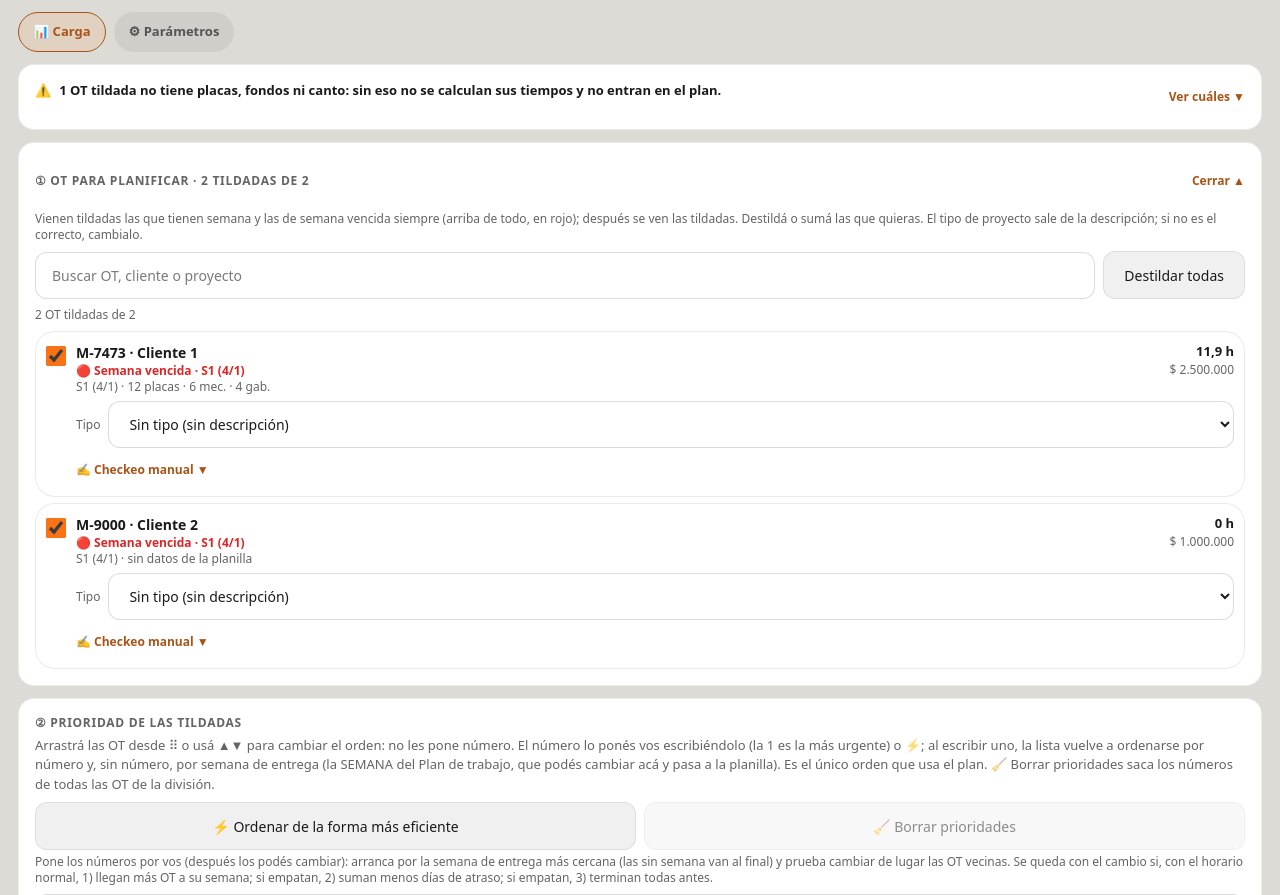
📊 Carga — 💲 precio de cada OT y valorización por semana y mes
Click the checkbox named "Planificar OT M-9000": (56, 528) [46, 518, 66, 538]
(page scrolled)
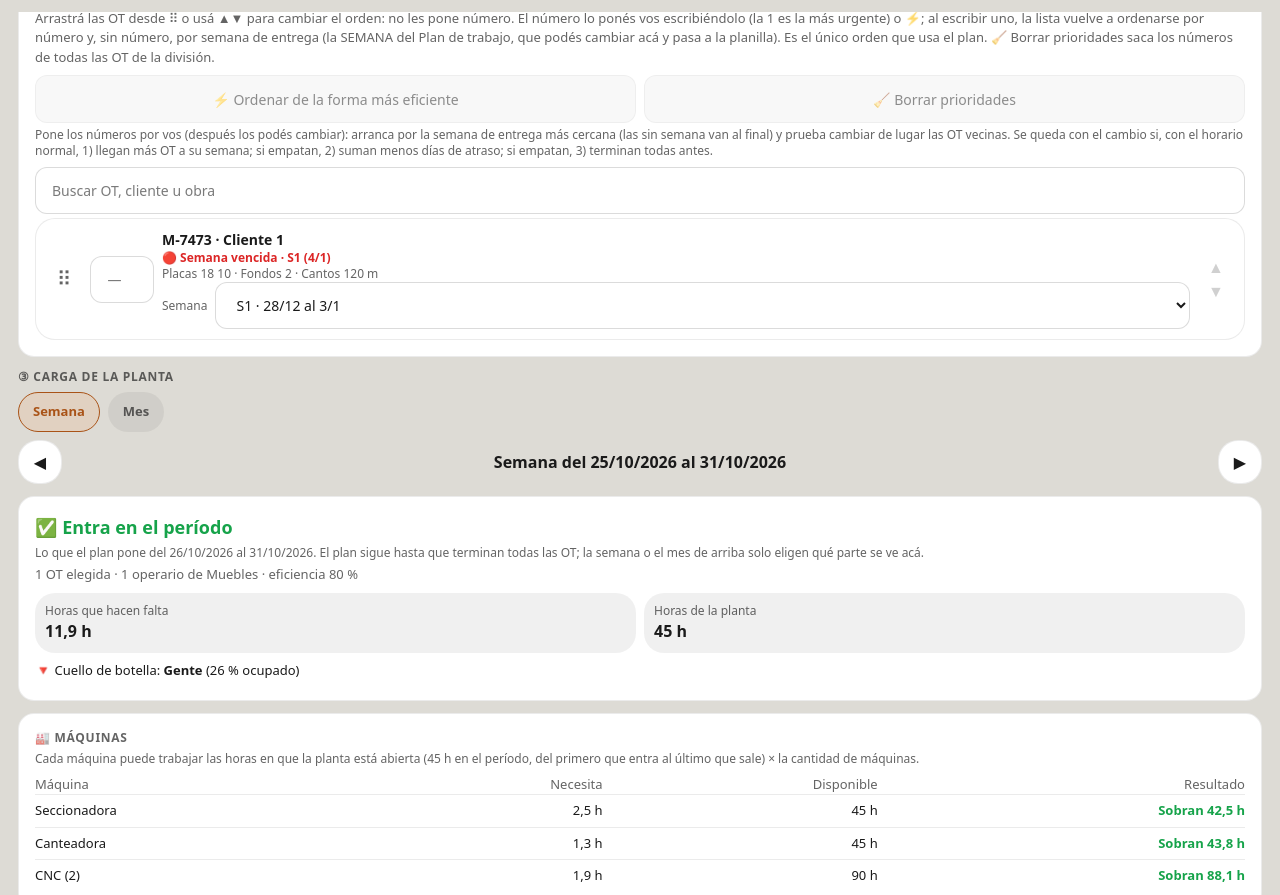
Click the button named "Período siguiente": (1240, 462) [1218, 440, 1262, 484]
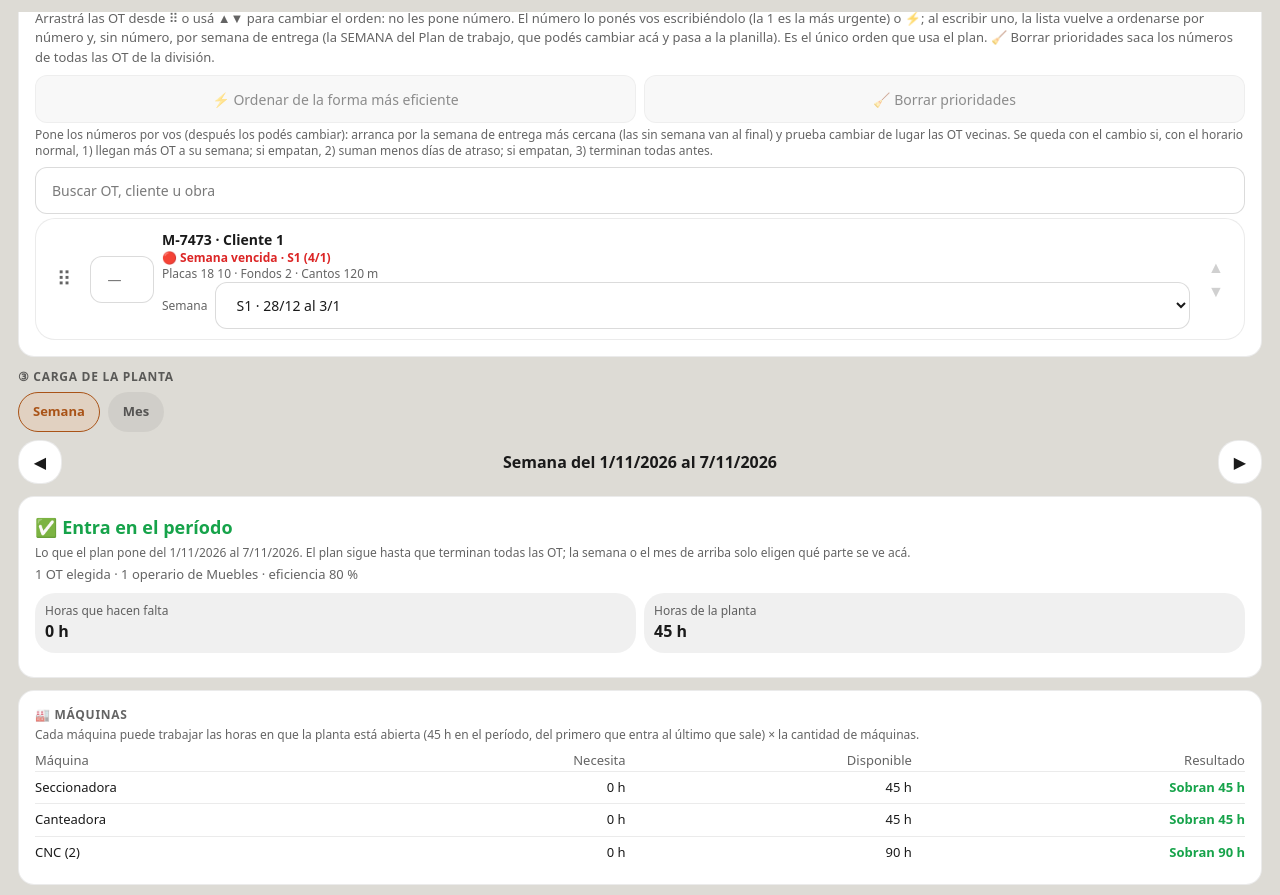
# Con Mes: por mes
Click the button "Mes": (136, 412) [108, 392, 164, 432]
(page scrolled)
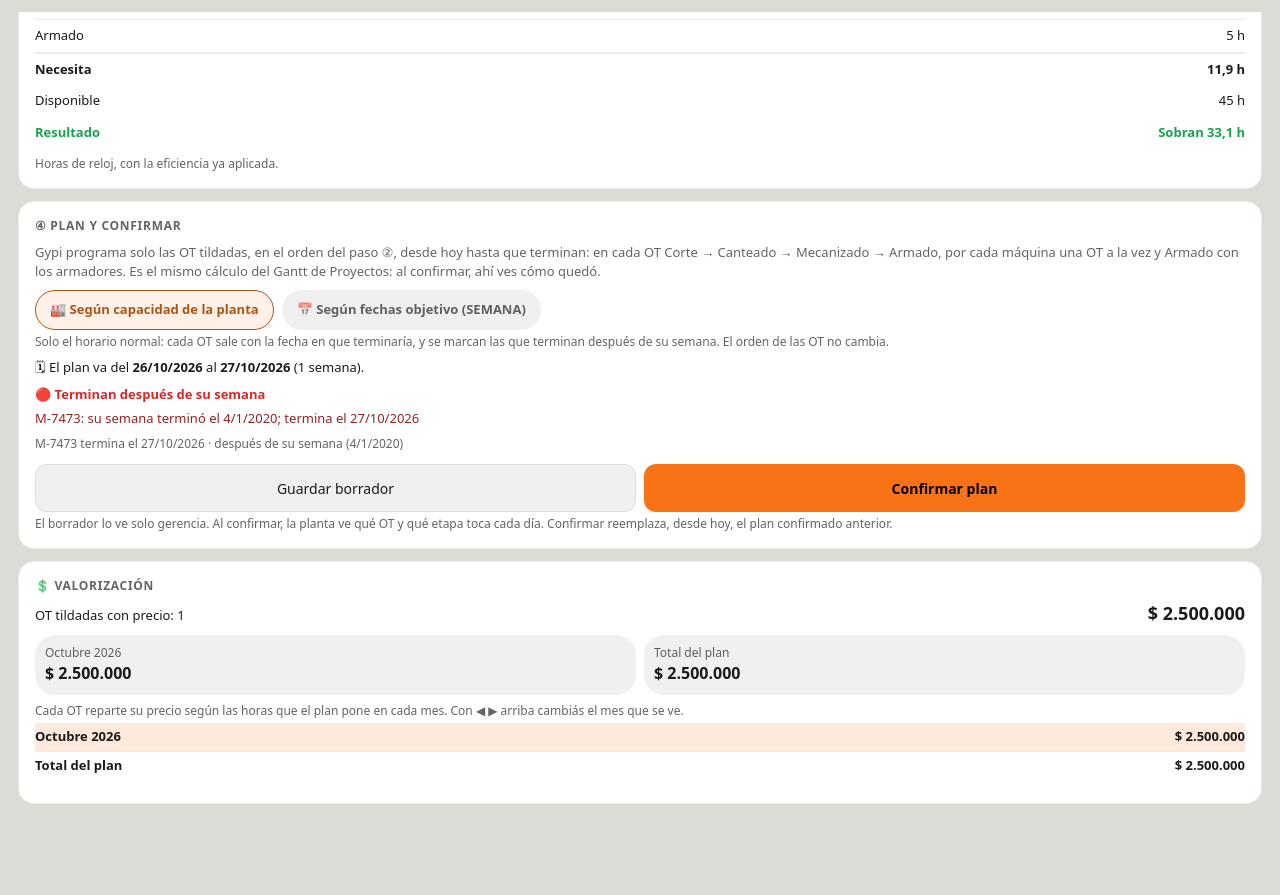
Result: the element named "Valor del período" shows "Octubre 2026" at [45, 644, 121, 661]
